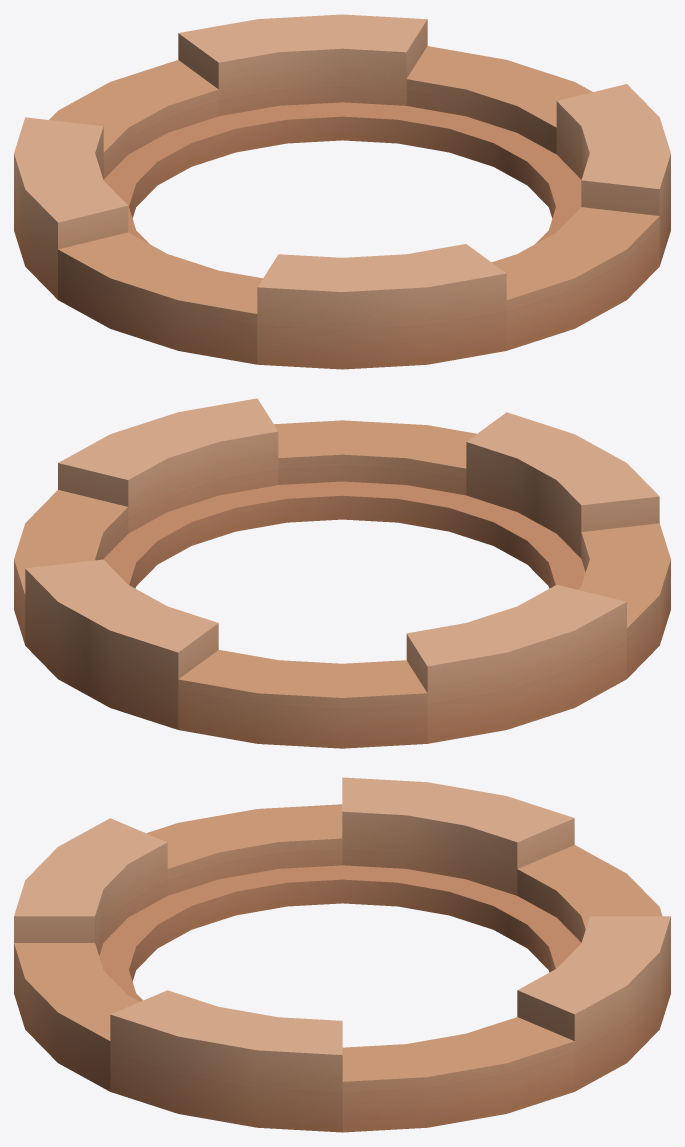
File: tower-top.glb
3 views of the same model, one above another, from view 1: azimuth 30°, elevation 25°; view 2: azimuth 150°, elevation 25°; view 3: azimuth 270°, elevation 25° (orthographic).
Visible parts, largest first — view 1: tower-top; view 2: tower-top; view 3: tower-top.
Part boxes in pixels (x1,y1,x2,y2): tower-top: [14, 14, 670, 369]; tower-top: [14, 398, 670, 748]; tower-top: [14, 777, 670, 1132].
Bounding box in the file's own units: 1 × 0.13 × 1.
Materials: 1 (1 with a texture image).
